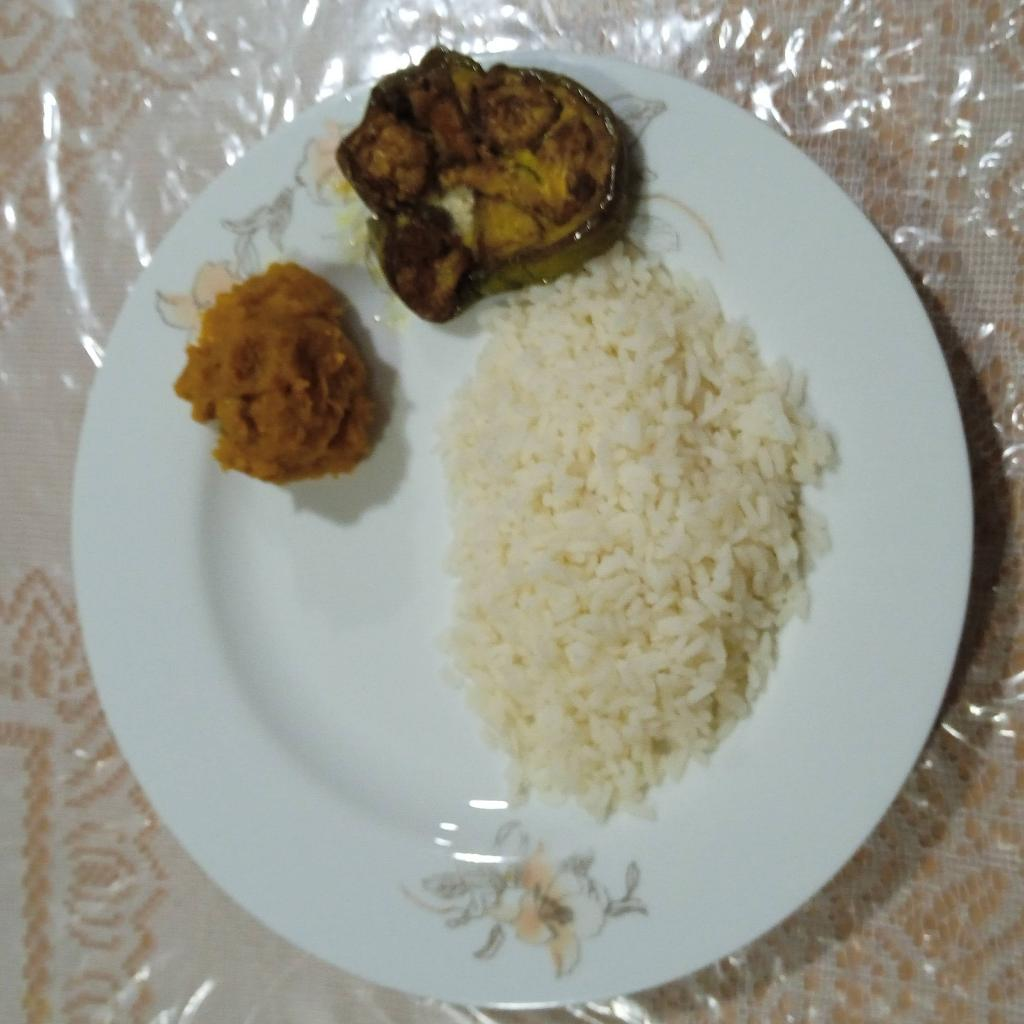begun-vaji: (340, 45, 644, 322)
kumra-vaji: (174, 262, 387, 483)
rice: (442, 266, 834, 816)
